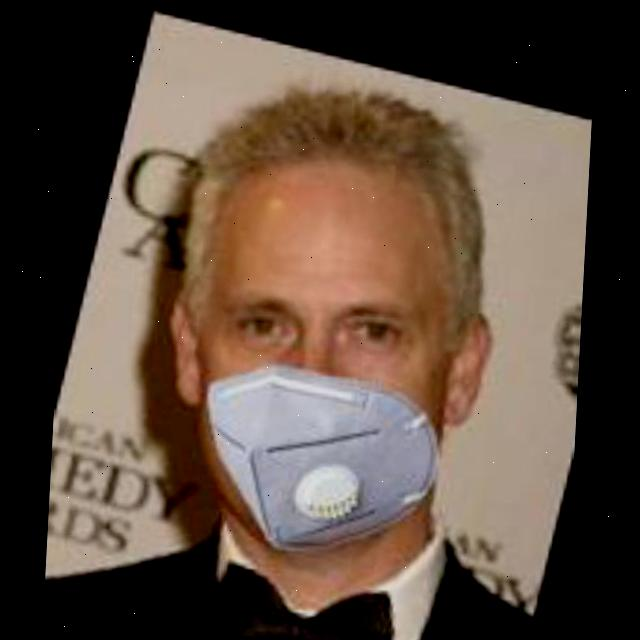suspicion: (185, 41, 502, 546)
